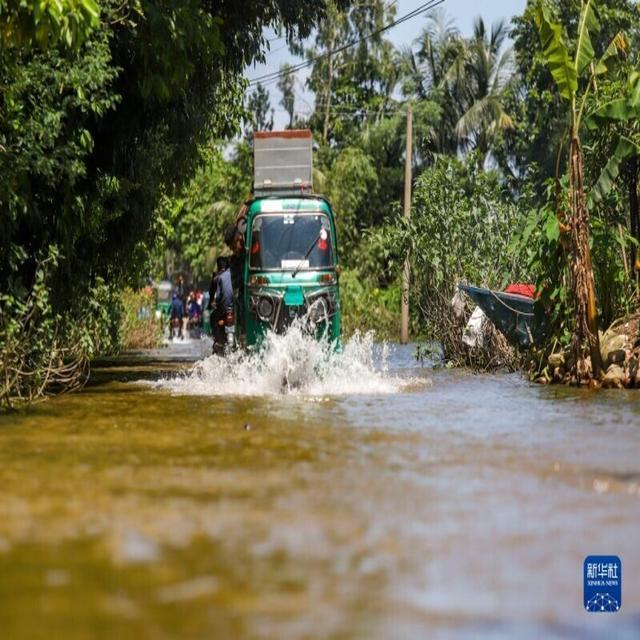Car-RiskLevel3: (205, 184, 353, 372)
